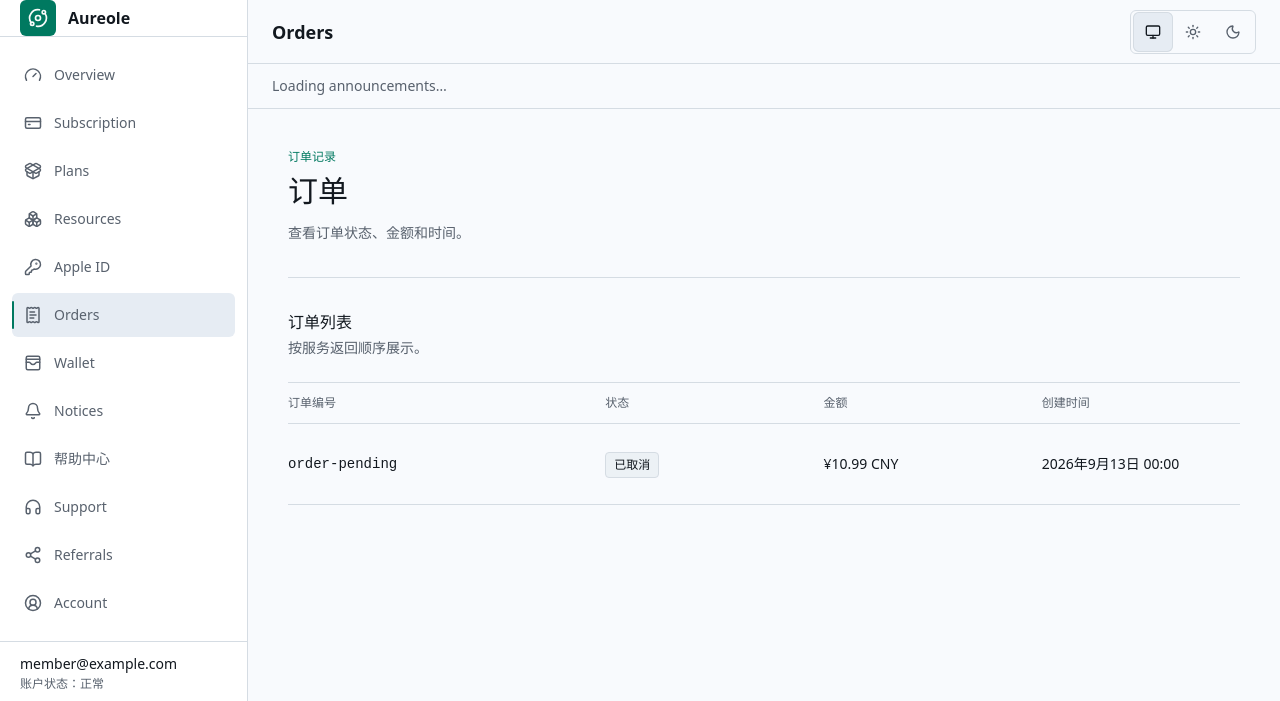
Test: Order Cancel flow › does not offer Cancel for authoritative cancelled Detail
Step 1. Click the button "order-pending 已取消 ¥10.99 CNY 2026年9月13日 00:00" → (343, 464), box [288,424,1240,504]
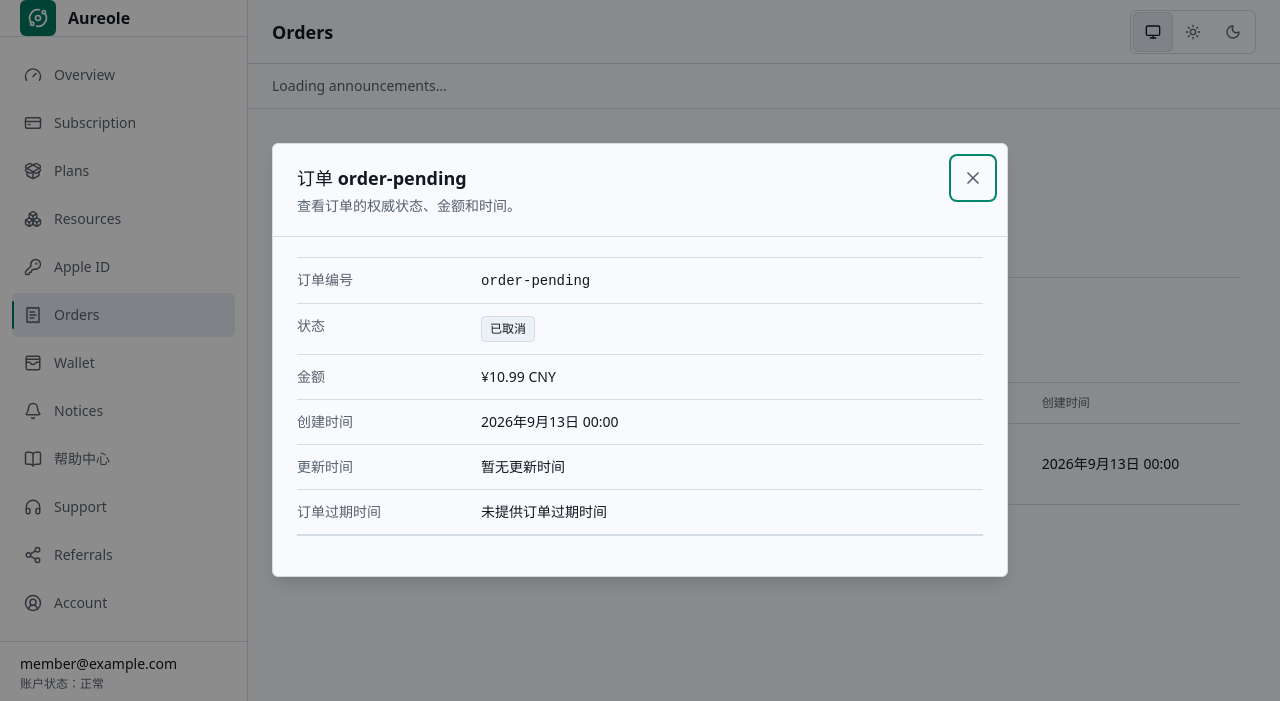
Now the heading "订单 order-pending" is shown, box [297,166,467,190]
Now the text "已取消" is shown, box [481,316,535,342]
